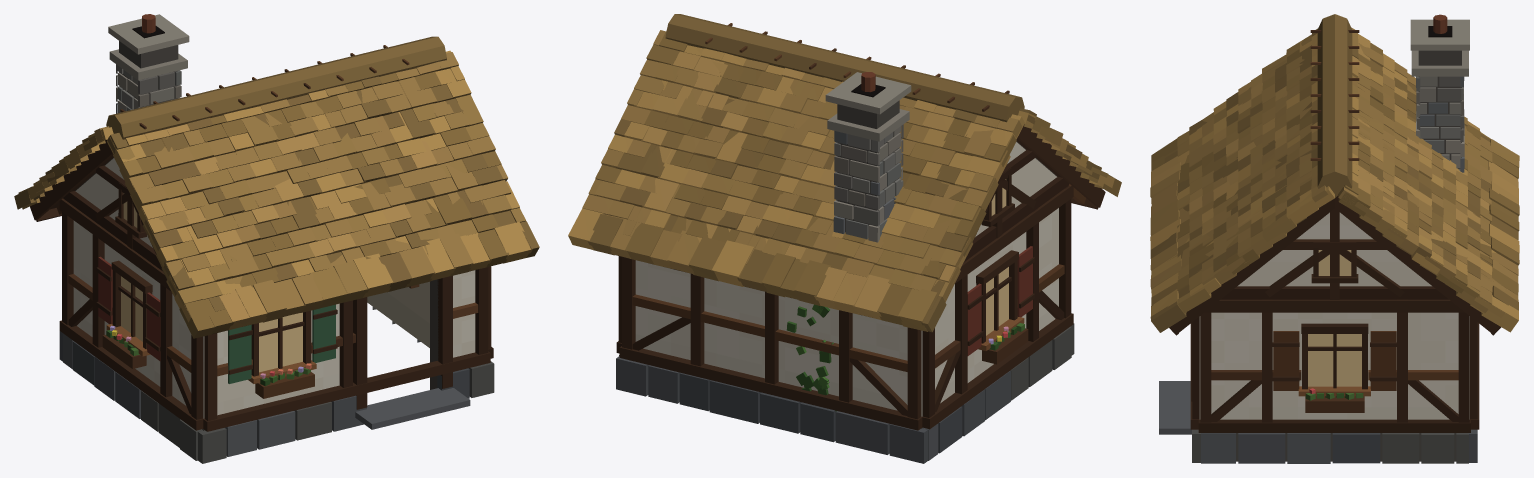
The model's file is cottage-2.glb.
3 views of the same model, side by side, from view 1: azimuth 30°, elevation 25°; view 2: azimuth 150°, elevation 25°; view 3: azimuth 270°, elevation 25° (orthographic). The views are drawn at different scales.
Parts seen in each view (by area): view 1: cottage-2_shell, cottage-2_glass; view 2: cottage-2_shell, cottage-2_glass; view 3: cottage-2_shell, cottage-2_glass.
Boxes of the visible parts, left/top/right/bottom form: cottage-2_shell: left=14, top=14, right=539, bottom=463; cottage-2_glass: left=121, top=193, right=302, bottom=372; cottage-2_shell: left=568, top=14, right=1121, bottom=463; cottage-2_glass: left=986, top=179, right=1008, bottom=335; cottage-2_shell: left=1150, top=14, right=1519, bottom=463; cottage-2_glass: left=1308, top=250, right=1361, bottom=386.
Size of the model in its own units: 7.29 by 6.92 by 6.84.
